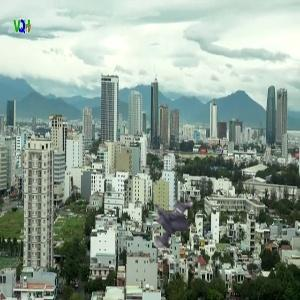drone: (146, 194, 217, 265)
